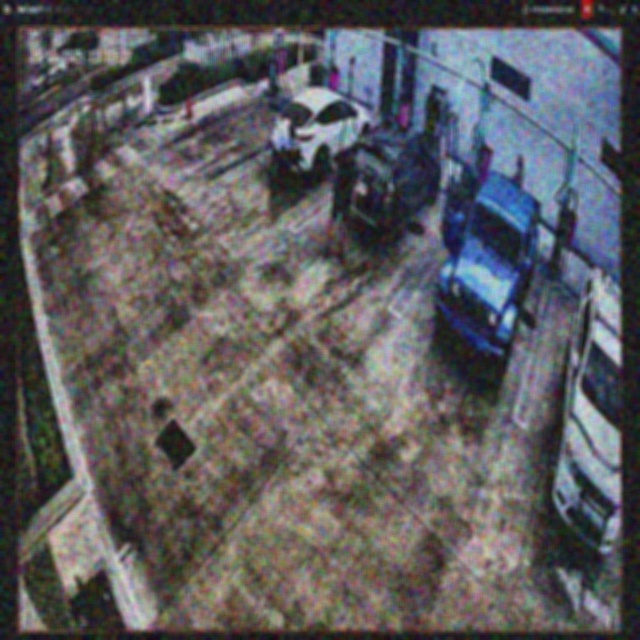Car: (435, 163, 541, 385), (344, 123, 442, 236), (276, 88, 371, 190)
